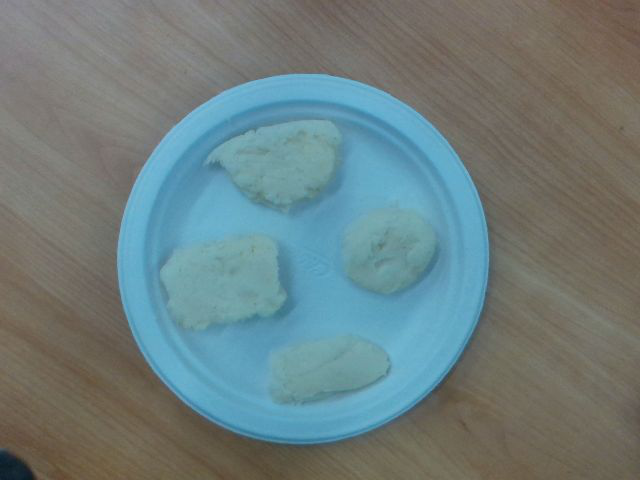mashed_potato: (207, 120, 340, 208), (162, 237, 284, 326), (345, 209, 437, 294), (275, 340, 389, 400)
